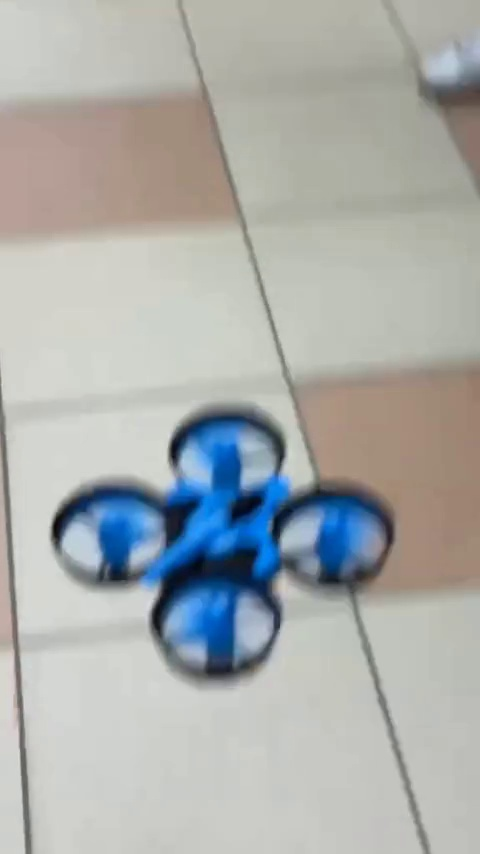drone: (51, 405, 394, 680)
